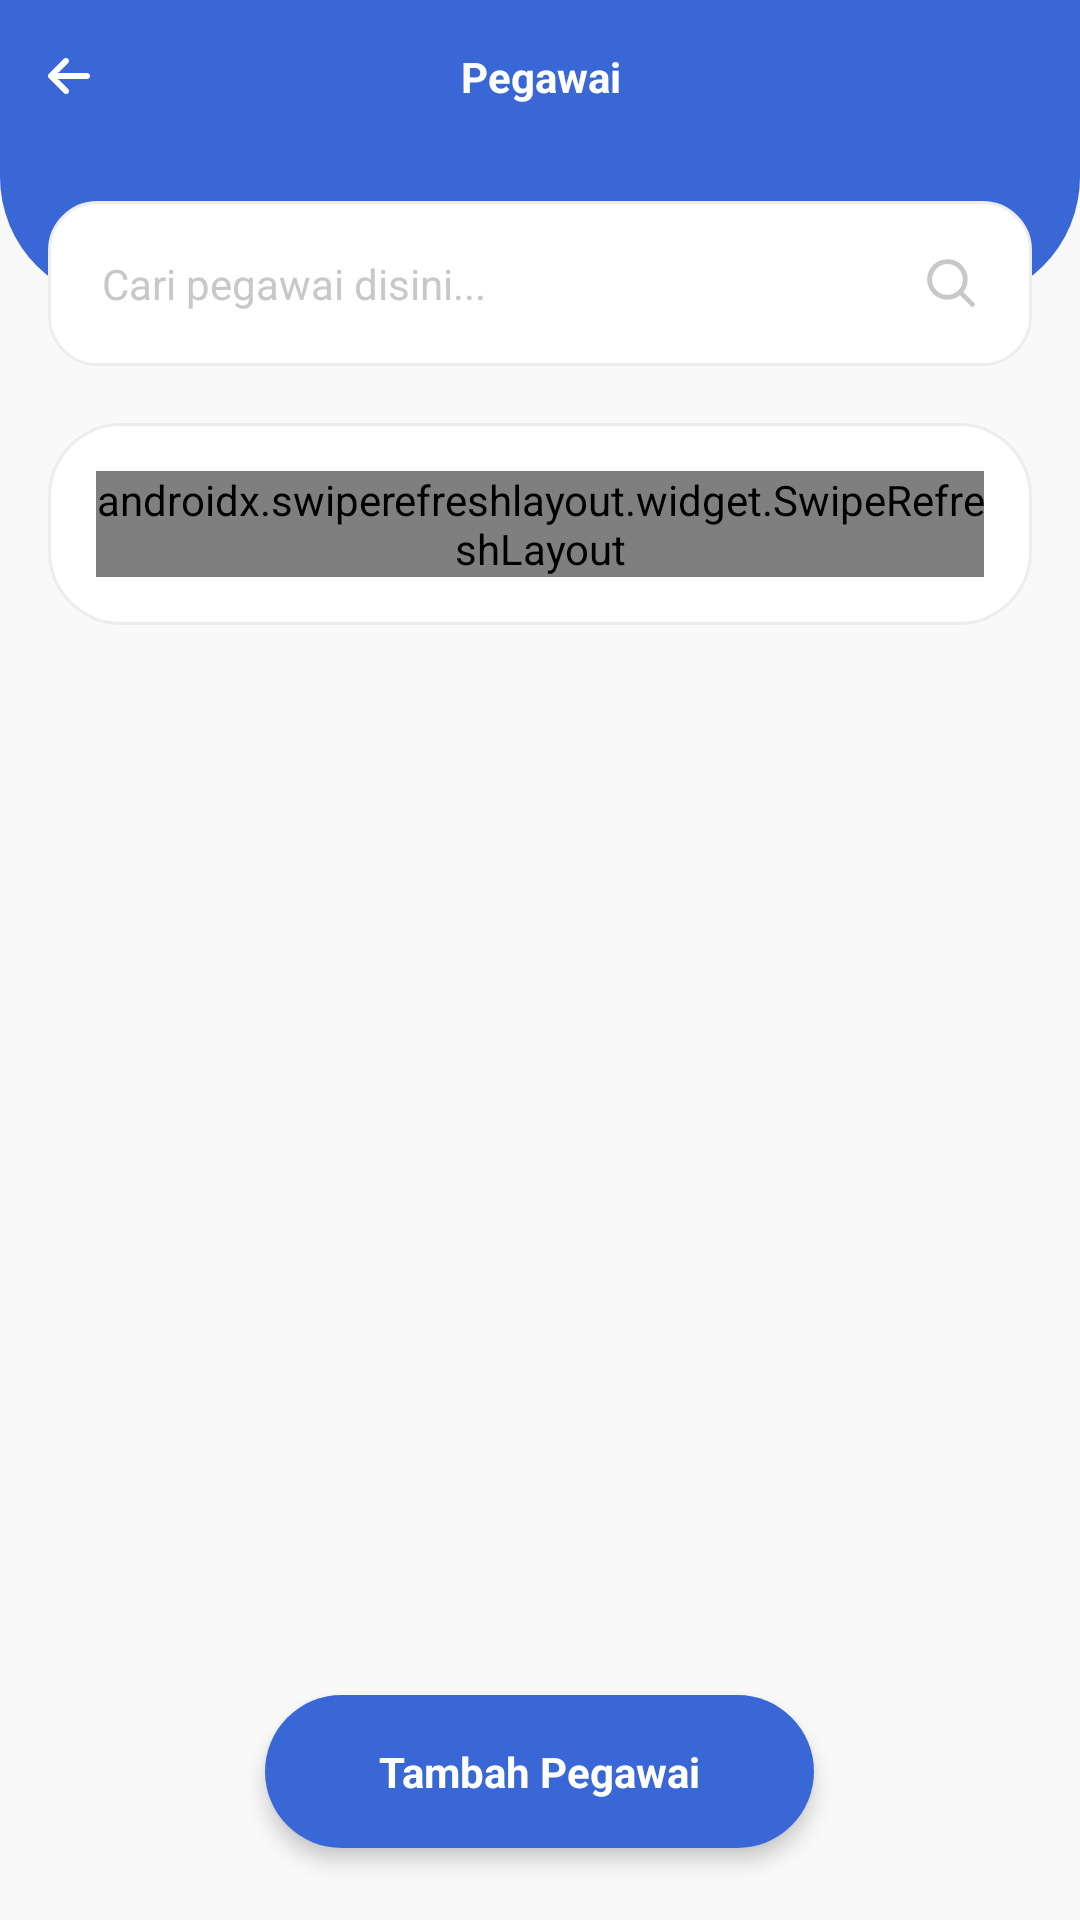

Named icons in this screenshot (1080x1920) and their bounding boxes, bbox=(x1, y1, x2, y2):
arrow: bbox=(48, 58, 90, 94)
